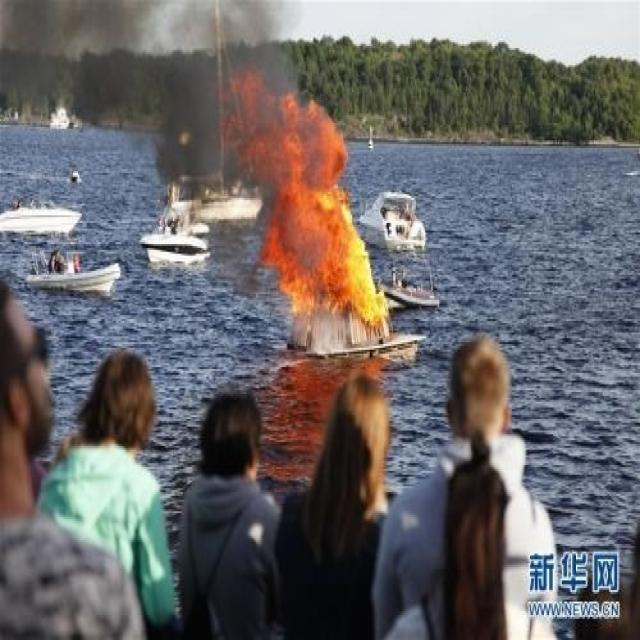Fire: (227, 69, 390, 327)
Smoke: (2, 2, 294, 206)
